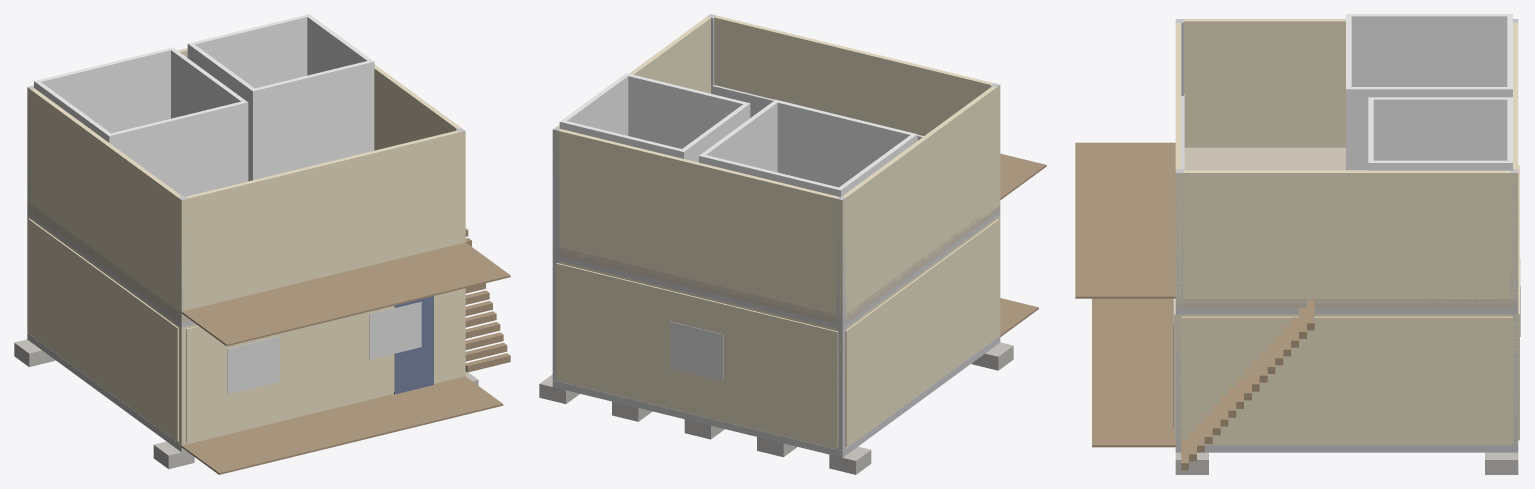
The model's file is Duplex-20-Base-RiceYellow-LOD3.glb.
The picture shows the model from 3 angles, left to right: view 1: azimuth 30°, elevation 25°; view 2: azimuth 150°, elevation 25°; view 3: azimuth 270°, elevation 25°; orthographic projection. The views are drawn at different scales.
Visible parts, largest first — view 1: ExteriorShellUpper, ExteriorPanelsStandard, StudyUpper, BedroomUpper, BalconyUpper, BalconyGround, WindowsStandard, StaircaseExternal, ExteriorShell, EntryDoor, FoundationBlocks, FloorUpper (+3 smaller); view 2: ExteriorShellUpper, ExteriorPanelsStandard, BedroomUpper, StudyUpper, FloorUpper, VerticalStructure, FoundationBlocks, BaseFrame, ExteriorShell, WindowsStandard, TopFrame, BalconyUpper (+2 smaller); view 3: ExteriorShellUpper, ExteriorPanelsStandard, BalconyUpper, BedroomUpper, BalconyGround, StudyUpper, FloorUpper, StaircaseExternal, ExteriorShell, VerticalStructure, BaseFrame, TopFrame (+1 smaller).
Part boxes in pixels (x1,y1,x2,y2): ExteriorShellUpper: [27, 48, 465, 315]; ExteriorPanelsStandard: [28, 218, 461, 442]; StudyUpper: [187, 14, 374, 181]; BedroomUpper: [34, 47, 248, 196]; BalconyUpper: [181, 242, 510, 346]; BalconyGround: [181, 376, 503, 474]; WindowsStandard: [227, 301, 421, 394]; StaircaseExternal: [465, 228, 510, 372]; ExteriorShell: [27, 214, 465, 445]; EntryDoor: [394, 296, 433, 394]; FoundationBlocks: [14, 339, 478, 469]; FloorUpper: [27, 201, 190, 322]; ExteriorShellUpper: [553, 15, 1000, 320]; ExteriorPanelsStandard: [556, 219, 999, 447]; BedroomUpper: [699, 99, 917, 197]; StudyUpper: [559, 73, 750, 162]; FloorUpper: [559, 206, 1000, 324]; VerticalStructure: [552, 14, 999, 450]; FoundationBlocks: [539, 342, 1013, 474]; BaseFrame: [552, 336, 1000, 457]; ExteriorShell: [559, 215, 1000, 448]; WindowsStandard: [670, 321, 723, 380]; TopFrame: [559, 210, 1000, 329]; BalconyUpper: [1000, 153, 1046, 199]; ExteriorShellUpper: [1175, 19, 1518, 303]; ExteriorPanelsStandard: [1174, 165, 1519, 443]; BalconyUpper: [1075, 142, 1175, 298]; BedroomUpper: [1346, 14, 1512, 170]; BalconyGround: [1092, 298, 1175, 447]; StudyUpper: [1368, 97, 1512, 170]; FloorUpper: [1176, 147, 1518, 308]; StaircaseExternal: [1181, 299, 1314, 470]; ExteriorShell: [1175, 314, 1518, 445]; VerticalStructure: [1175, 19, 1518, 445]; BaseFrame: [1175, 445, 1518, 452]; TopFrame: [1175, 309, 1518, 313].
Size of the model in its own units: 7.94 by 6 by 8.
